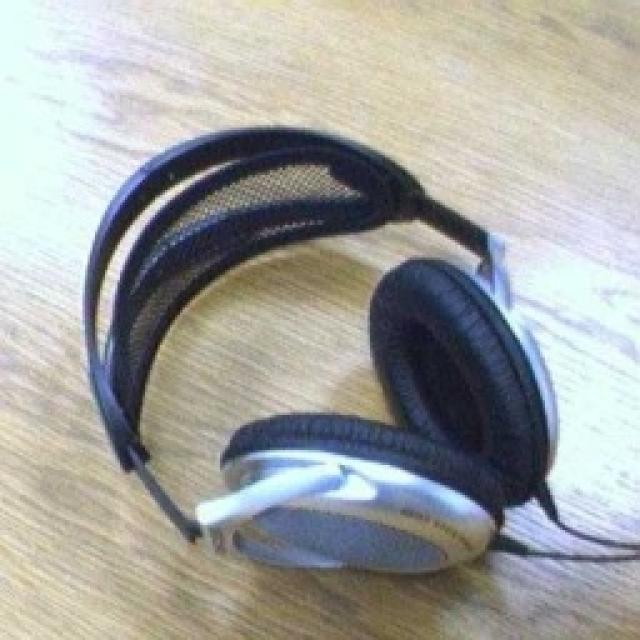headphones: (80, 123, 560, 575)
